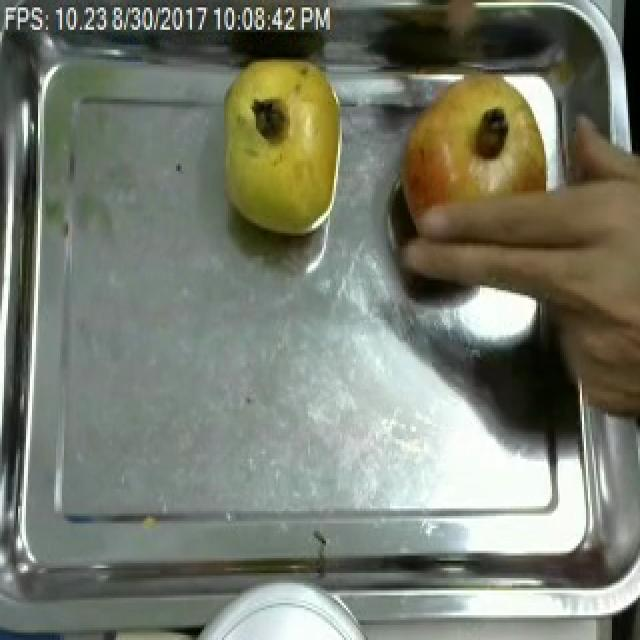fruit: (214, 50, 354, 243), (392, 64, 554, 226)
